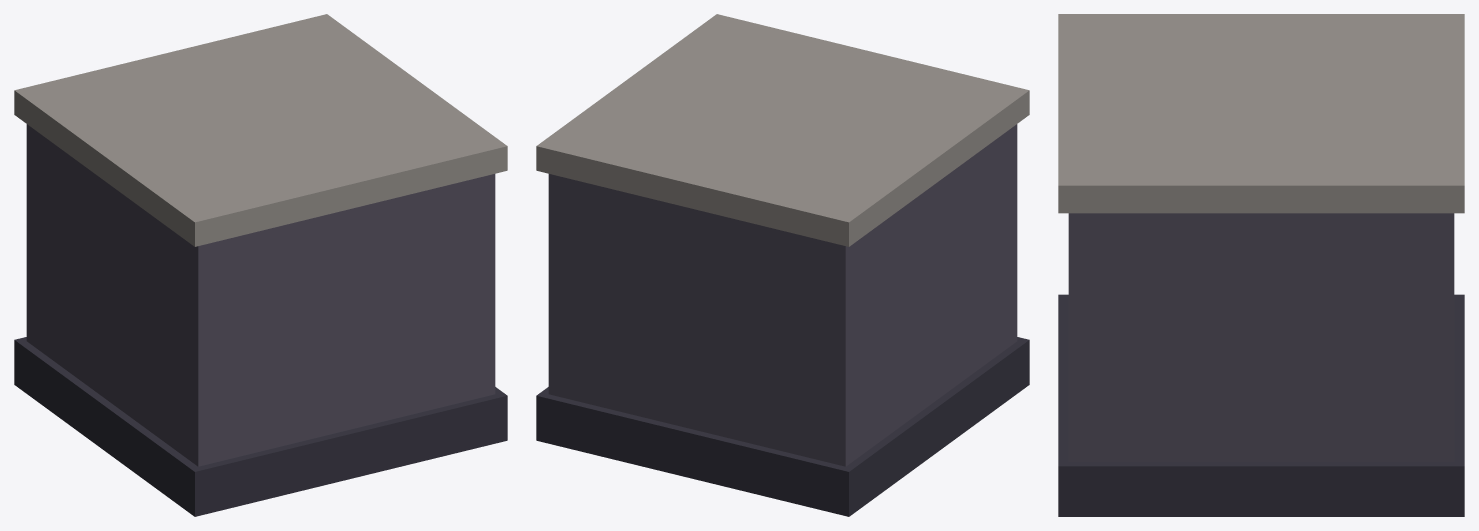
File: wall_block.fbx
The picture shows the model from 3 angles, left to right: view 1: azimuth 30°, elevation 25°; view 2: azimuth 150°, elevation 25°; view 3: azimuth 270°, elevation 25°; orthographic projection. The views are drawn at different scales.
Visible parts, largest first — view 1: wall_block; view 2: wall_block; view 3: wall_block.
Part boxes in pixels (x1,y1,x2,y2): wall_block: (14,14,507,516); wall_block: (536,14,1029,516); wall_block: (1058,14,1464,516).
Size of the model in its own units: 4 by 3.6 by 4.
